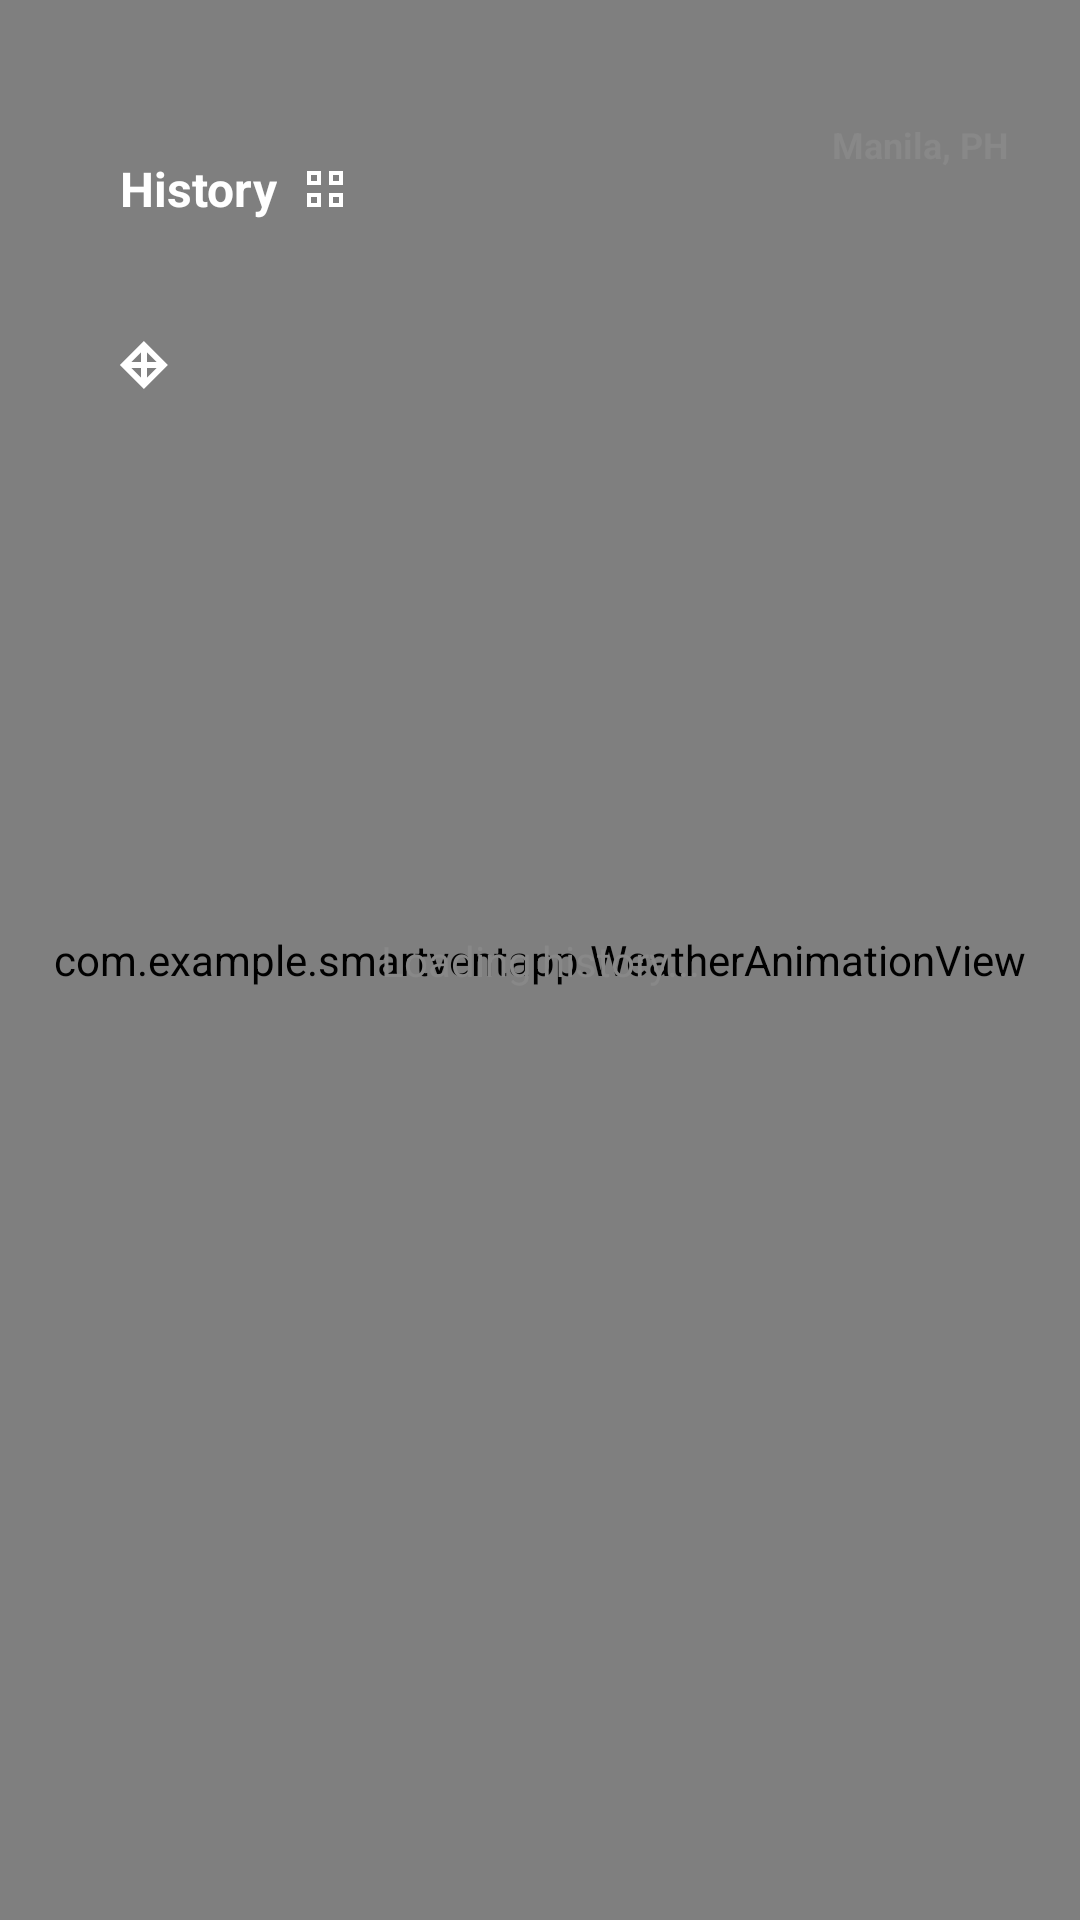

Named icons in this screenshot (1080x1920) and their centers, point (x, y):
grid: point (325, 189)
